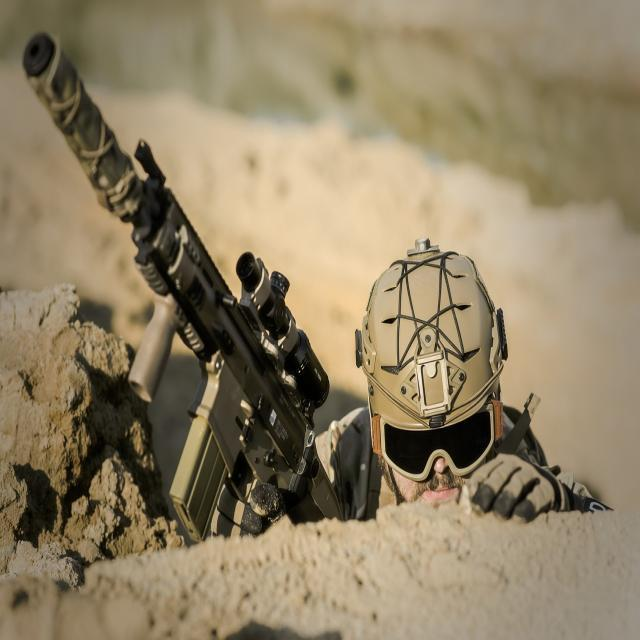Gun: (22, 34, 340, 541)
